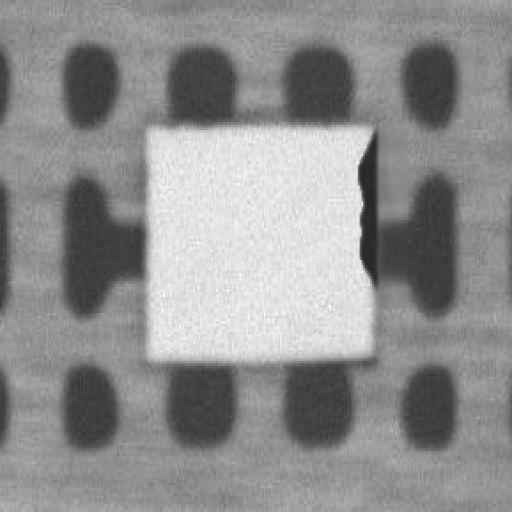DIE_BROKEN: (354, 135, 379, 292)
